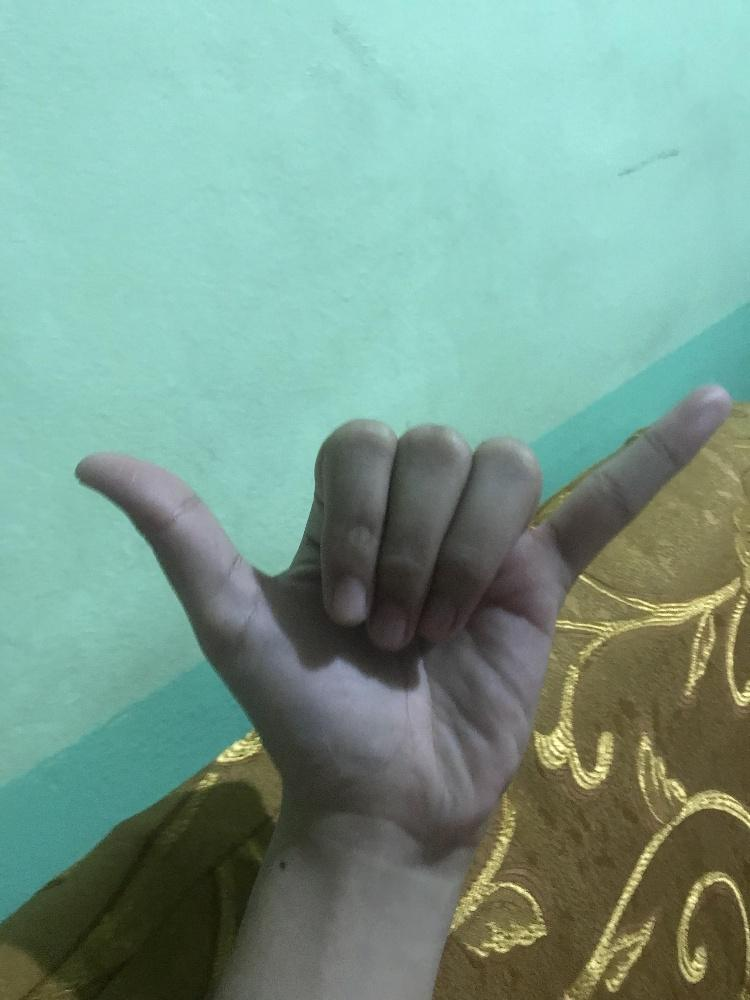y: (67, 379, 732, 847)
